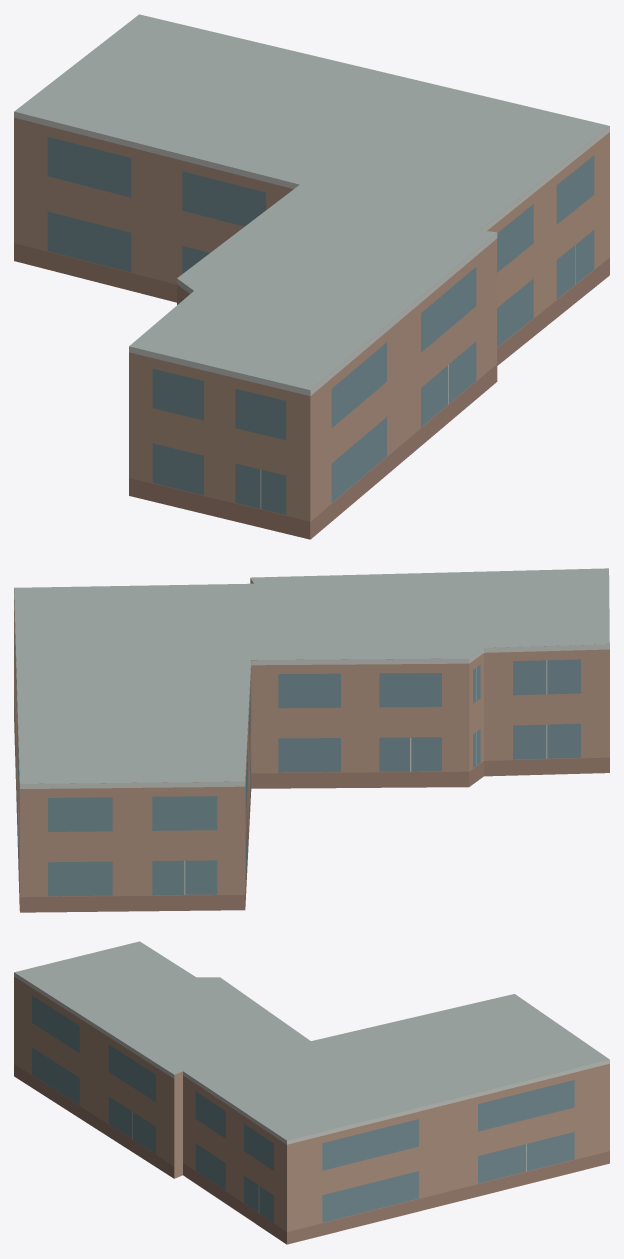
Rendered from survey-upis-32568990.glb.
3 renders of one model, top to bottom at view 1: azimuth 30°, elevation 25°; view 2: azimuth 150°, elevation 25°; view 3: azimuth 270°, elevation 25°, orthographic. The views are drawn at different scales.
Visible parts, largest first — view 1: survey-upis-32568990.tmp; view 2: survey-upis-32568990.tmp; view 3: survey-upis-32568990.tmp.
Boxes of the visible parts, box(x1,y1,x2,y2) form: survey-upis-32568990.tmp: box(14, 14, 609, 539); survey-upis-32568990.tmp: box(14, 568, 609, 912); survey-upis-32568990.tmp: box(14, 941, 609, 1244).
Bounding box in the file's own units: 25.07 × 6.1 × 31.68.
